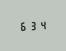four: (37, 19, 45, 30)
six: (18, 20, 26, 31)
three: (28, 20, 36, 30)
